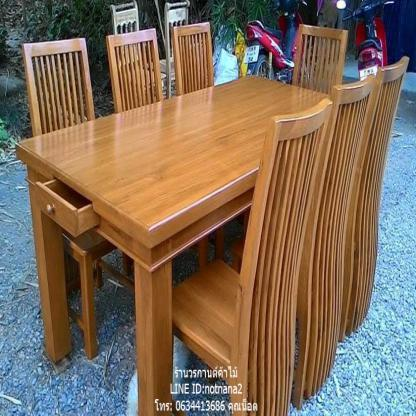table: (14, 70, 359, 415)
